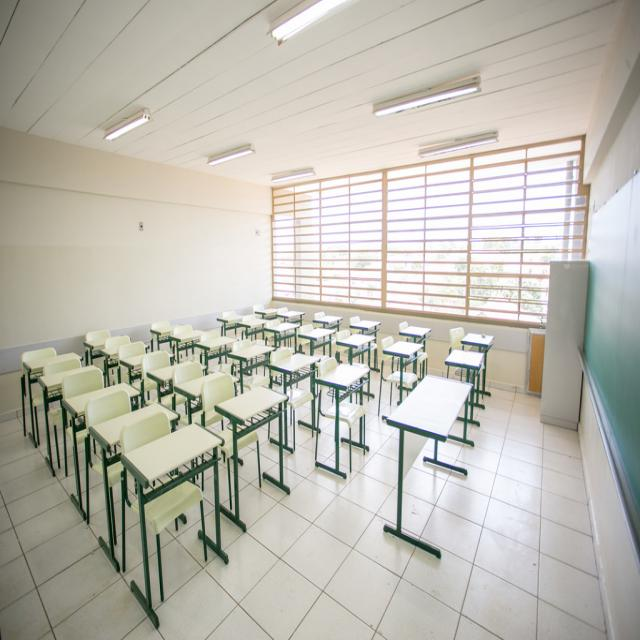chair: (120, 420, 228, 608), (88, 403, 174, 569), (313, 356, 371, 477), (52, 365, 108, 478), (268, 346, 318, 457), (379, 335, 419, 413)
desk: (385, 350, 481, 555)
